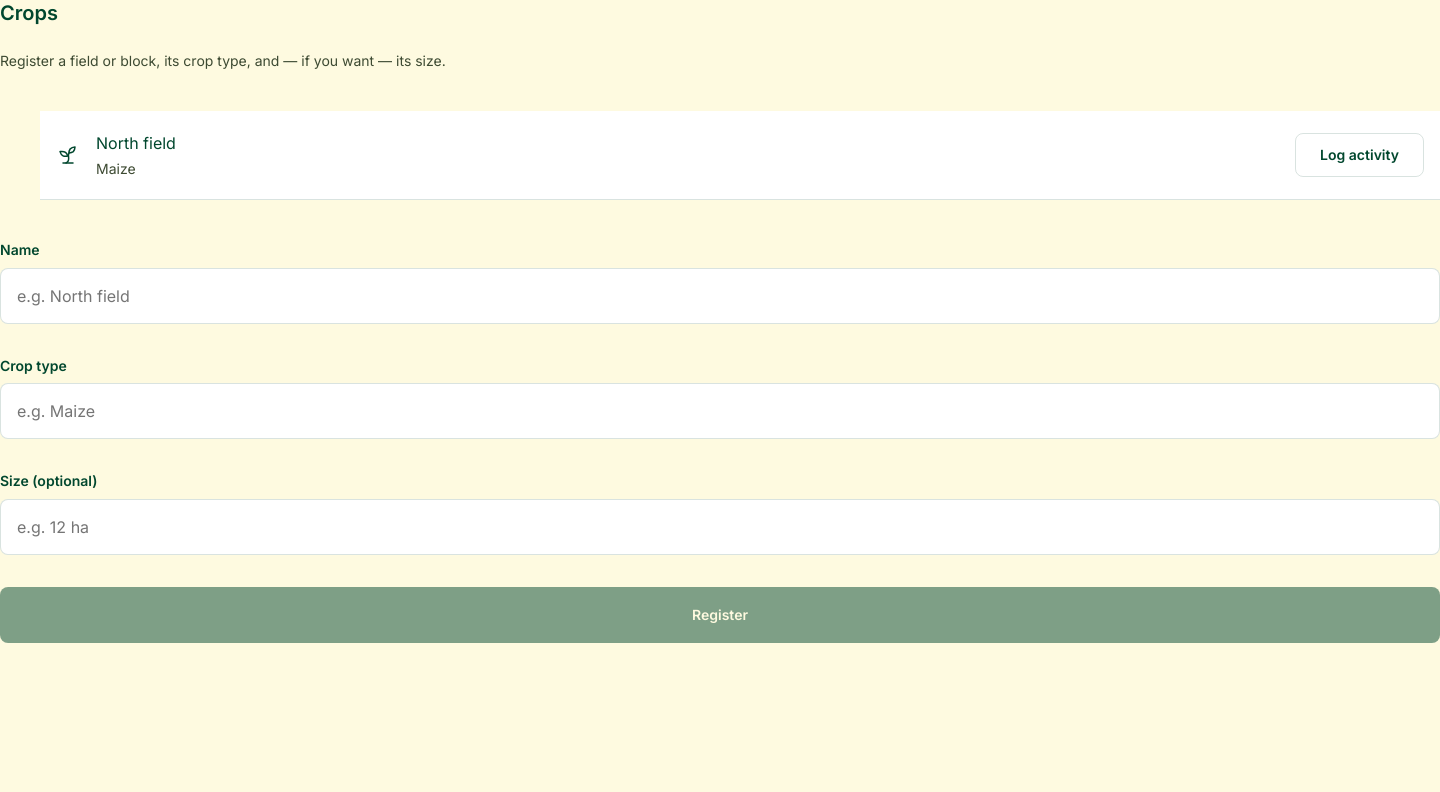
Scenario: CropsScreen › disables Log activity until a note is entered
The width and height of the screenshot is (1440, 792).
Click the button "Log activity" at (1360, 155), box [1295,133,1424,177]
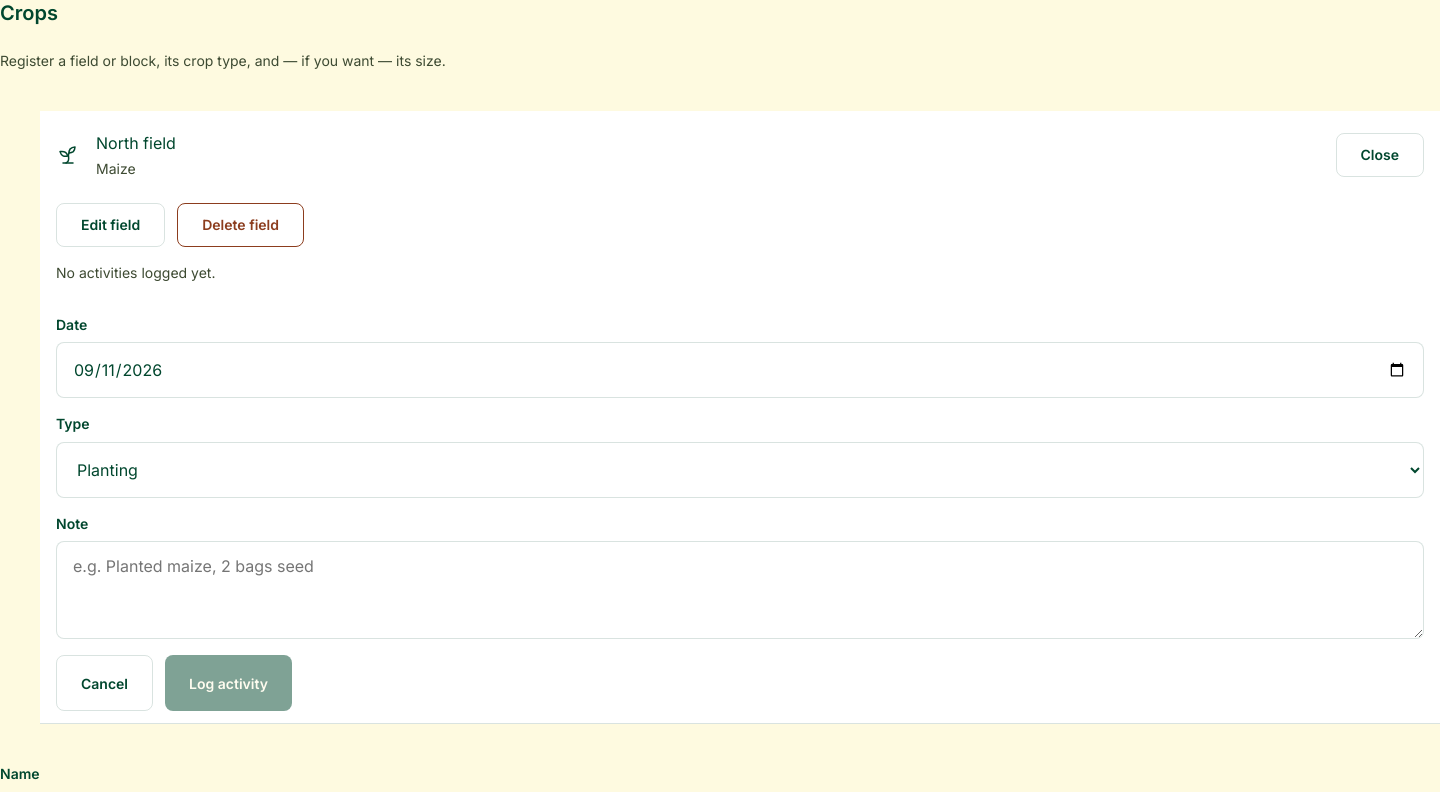
Expected: the button "Log activity" is disabled, [165,655,292,711]
Type "Sprayed herbicide" into the text box with test id "activity-note-input" at (740, 590), box [56,541,1424,639]
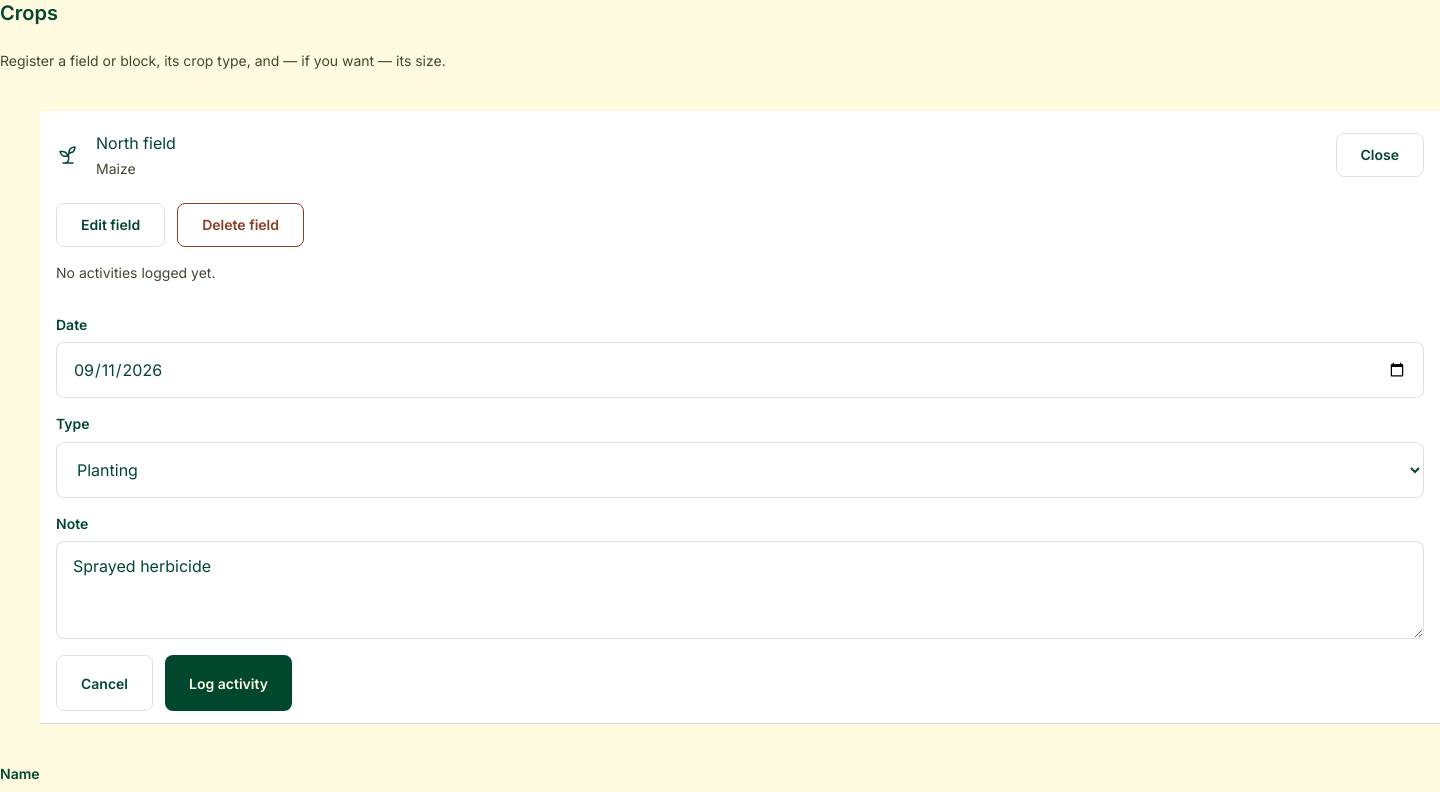
Expected: the button "Log activity" is enabled, [165,655,292,711]
